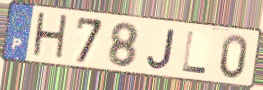0: (219, 33, 251, 81)
7: (74, 15, 105, 66)
8: (105, 21, 141, 69)
H: (30, 10, 70, 63)
J: (145, 27, 177, 71)
L: (180, 29, 209, 76)
